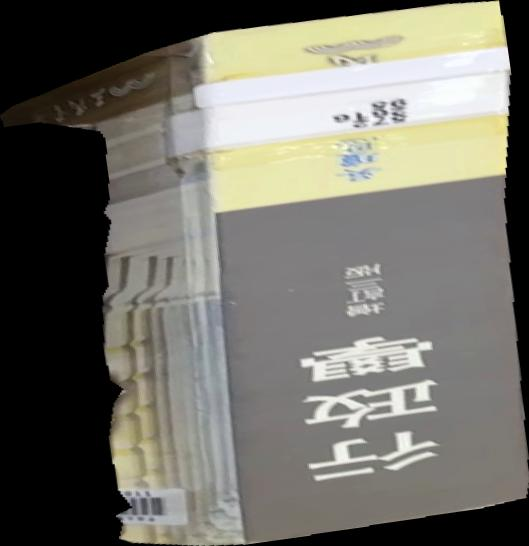reverse: (1, 1, 529, 546)
